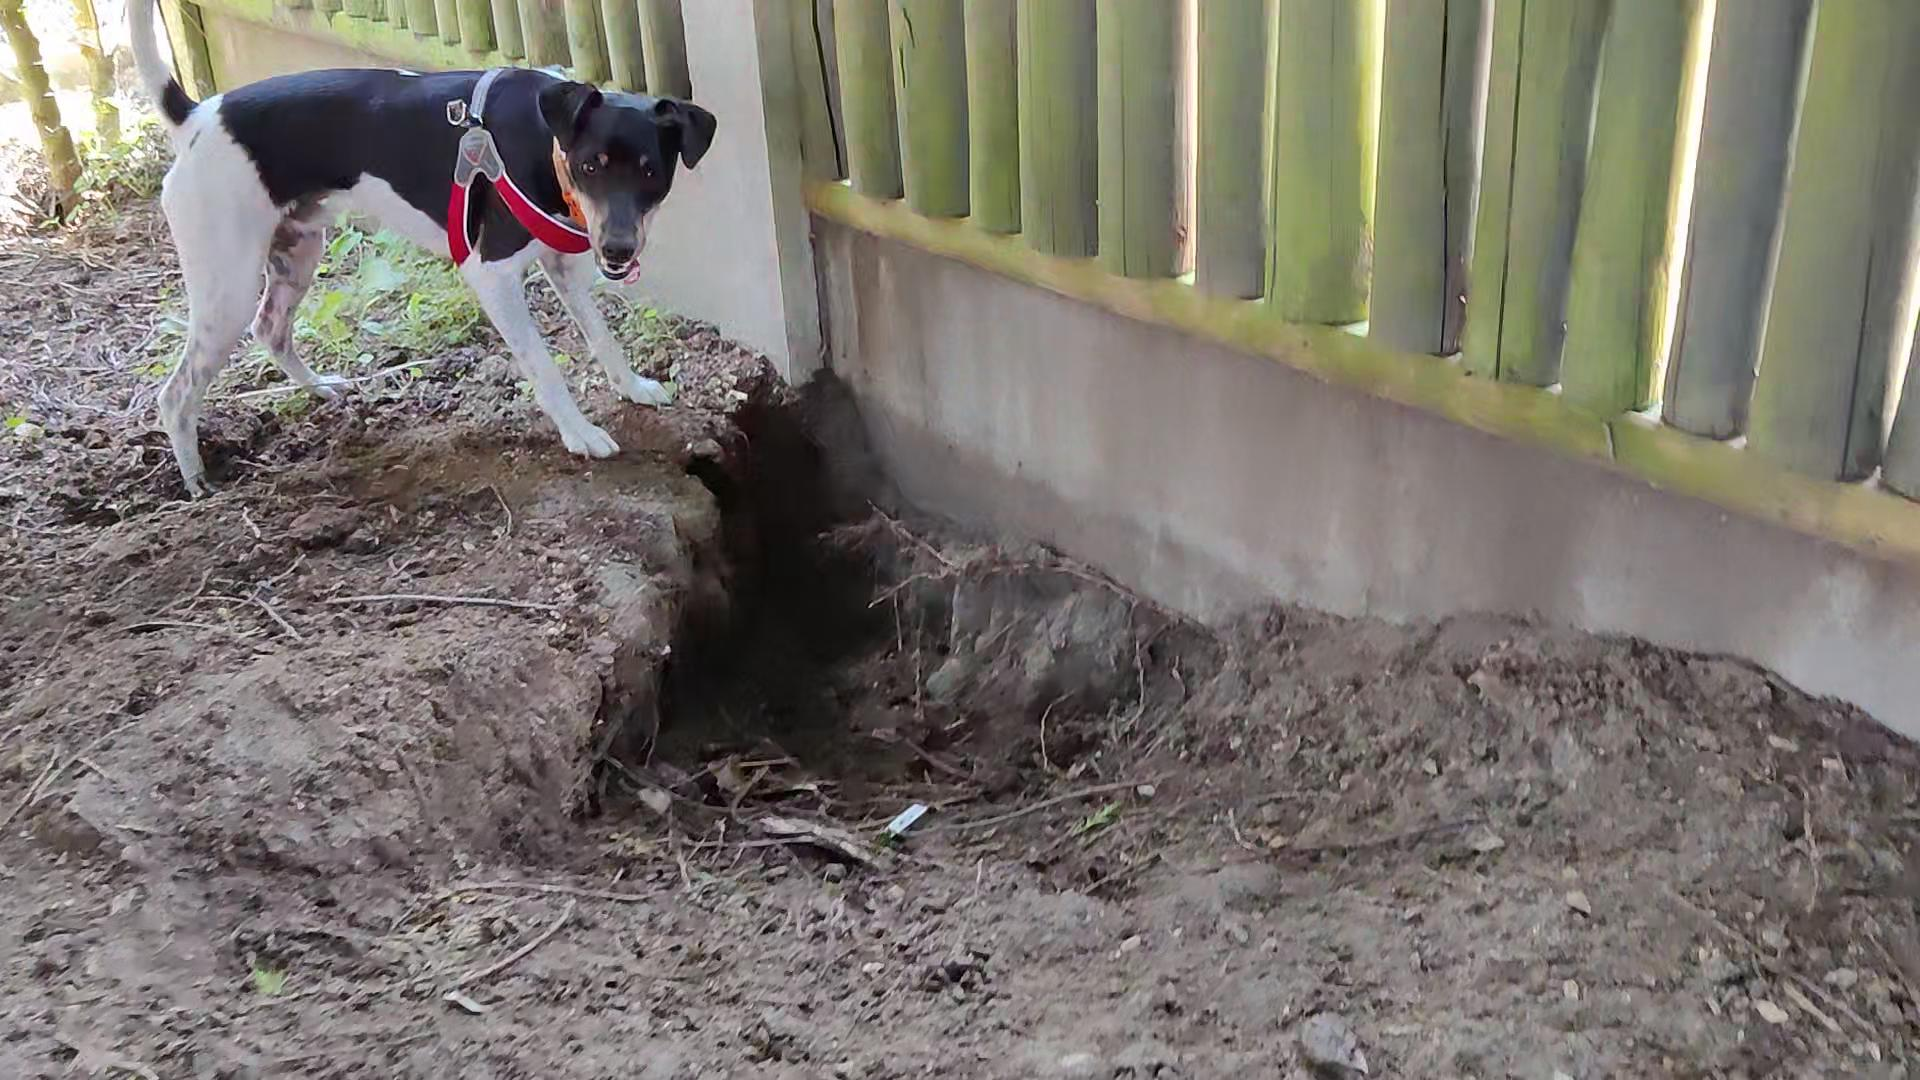Dog: (102, 0, 738, 501)
